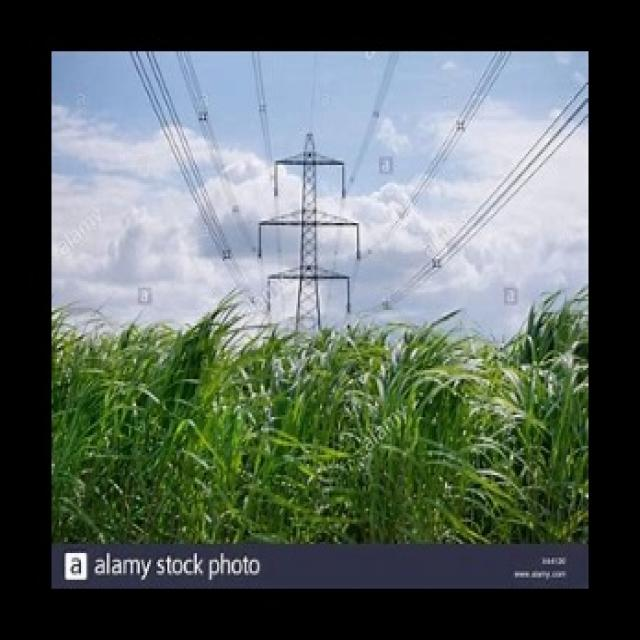utility poles: (249, 110, 372, 540)
